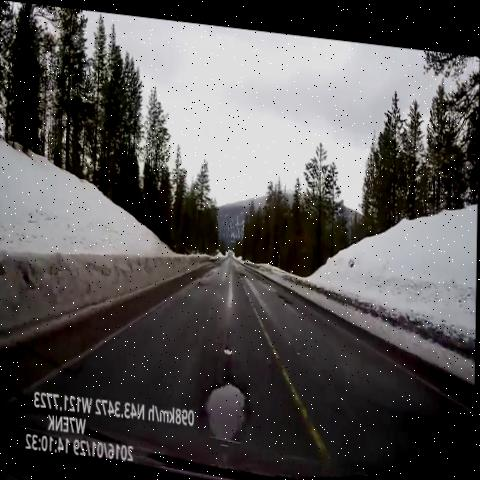pothole: (204, 370, 250, 438), (218, 327, 237, 358)
